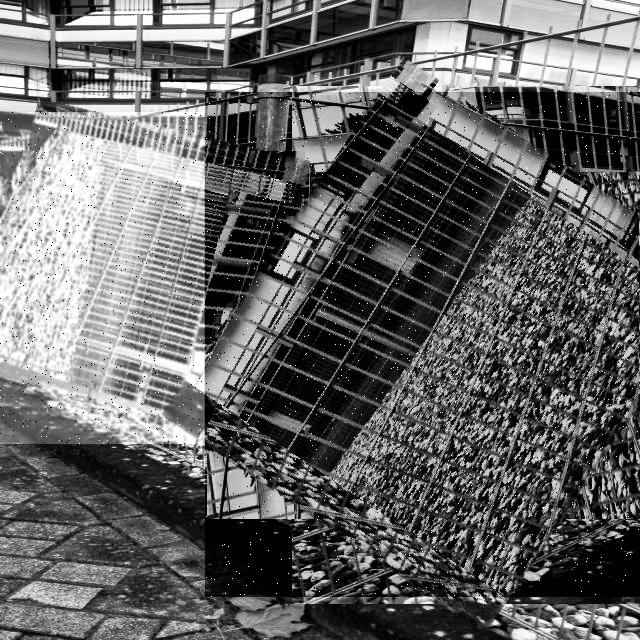fences: (205, 92, 640, 597), (0, 112, 295, 444)
